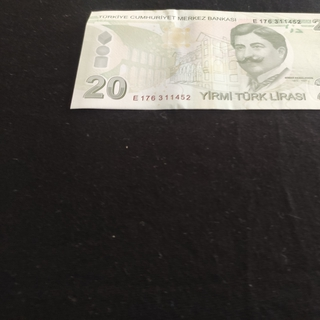20TLBack: (69, 8, 320, 110)
